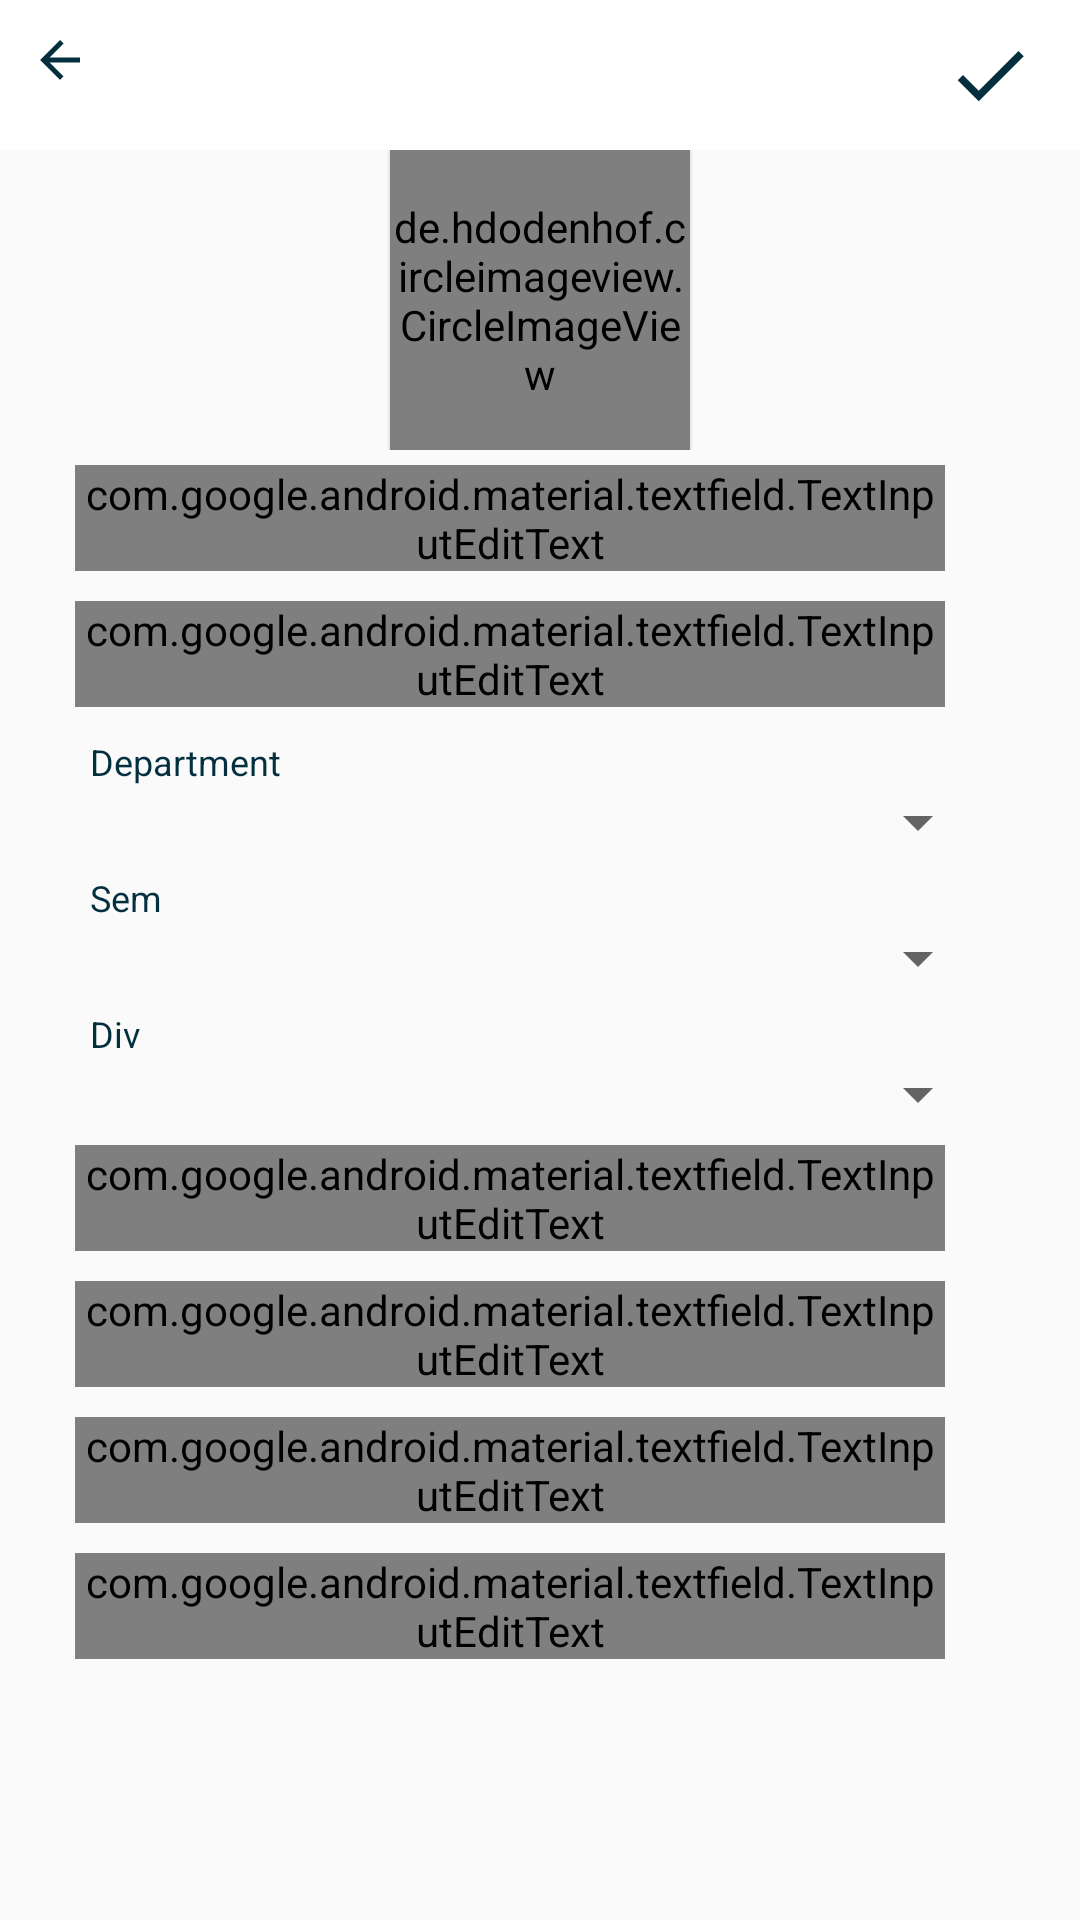

Icon bounding boxes for this 1080 × 1920 phone screenshot, format (x1, y1, x2, y2):
arrow back: (40, 40, 80, 80)
done: (958, 51, 1024, 101)
